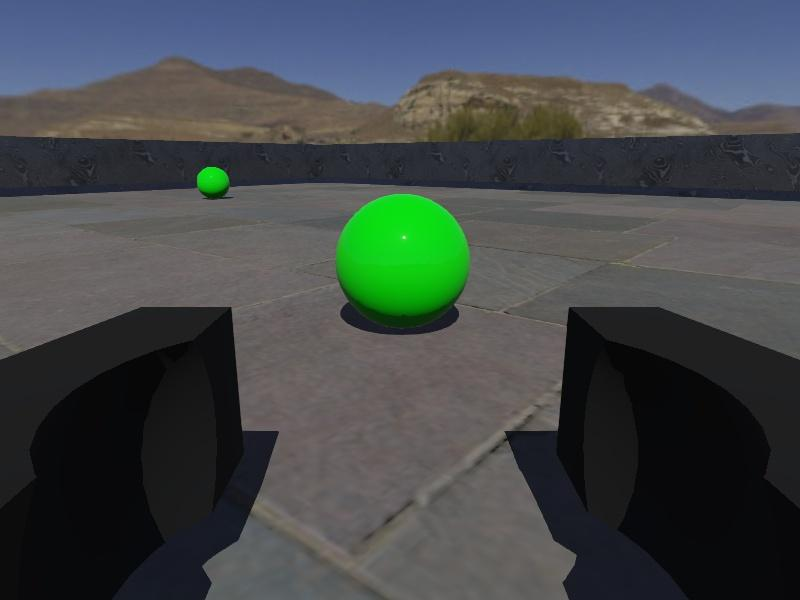green ball: (335, 192, 471, 330), (196, 165, 231, 199)
